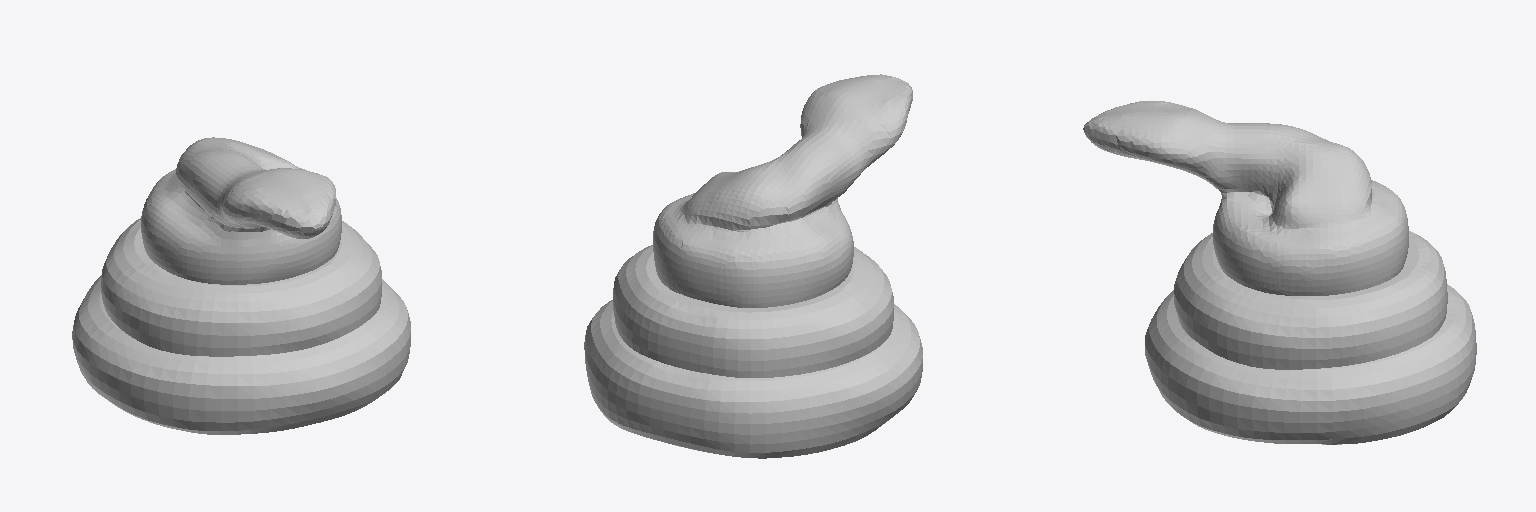
The model's file is coiled-snake.obj.
The picture shows the model from 3 angles: view 1: azimuth 30°, elevation 25°; view 2: azimuth 150°, elevation 25°; view 3: azimuth 270°, elevation 25°; orthographic projection.
Visible parts, largest first — view 1: Cylinder_Cylinder.003, Cylinder.002_Cylinder.005, Cylinder.001_Cylinder.004; view 2: Cylinder.002_Cylinder.005, Cylinder_Cylinder.003, Cylinder.001_Cylinder.004; view 3: Cylinder.002_Cylinder.005, Cylinder_Cylinder.003, Cylinder.001_Cylinder.004.
Boxes of the visible parts, x1,y1,x2,y2 form: Cylinder_Cylinder.003: [72, 275, 410, 434]; Cylinder.002_Cylinder.005: [141, 137, 341, 284]; Cylinder.001_Cylinder.004: [101, 218, 381, 356]; Cylinder.002_Cylinder.005: [653, 74, 912, 307]; Cylinder_Cylinder.003: [584, 300, 922, 458]; Cylinder.001_Cylinder.004: [613, 245, 893, 377]; Cylinder.002_Cylinder.005: [1083, 101, 1408, 295]; Cylinder_Cylinder.003: [1145, 284, 1476, 444]; Cylinder.001_Cylinder.004: [1174, 231, 1447, 369].
Bounding box in the file's own units: 0.9583 × 0.7987 × 1.1.